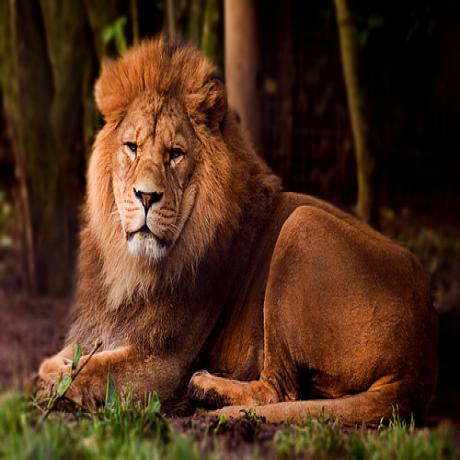Lion: (47, 32, 434, 425)
